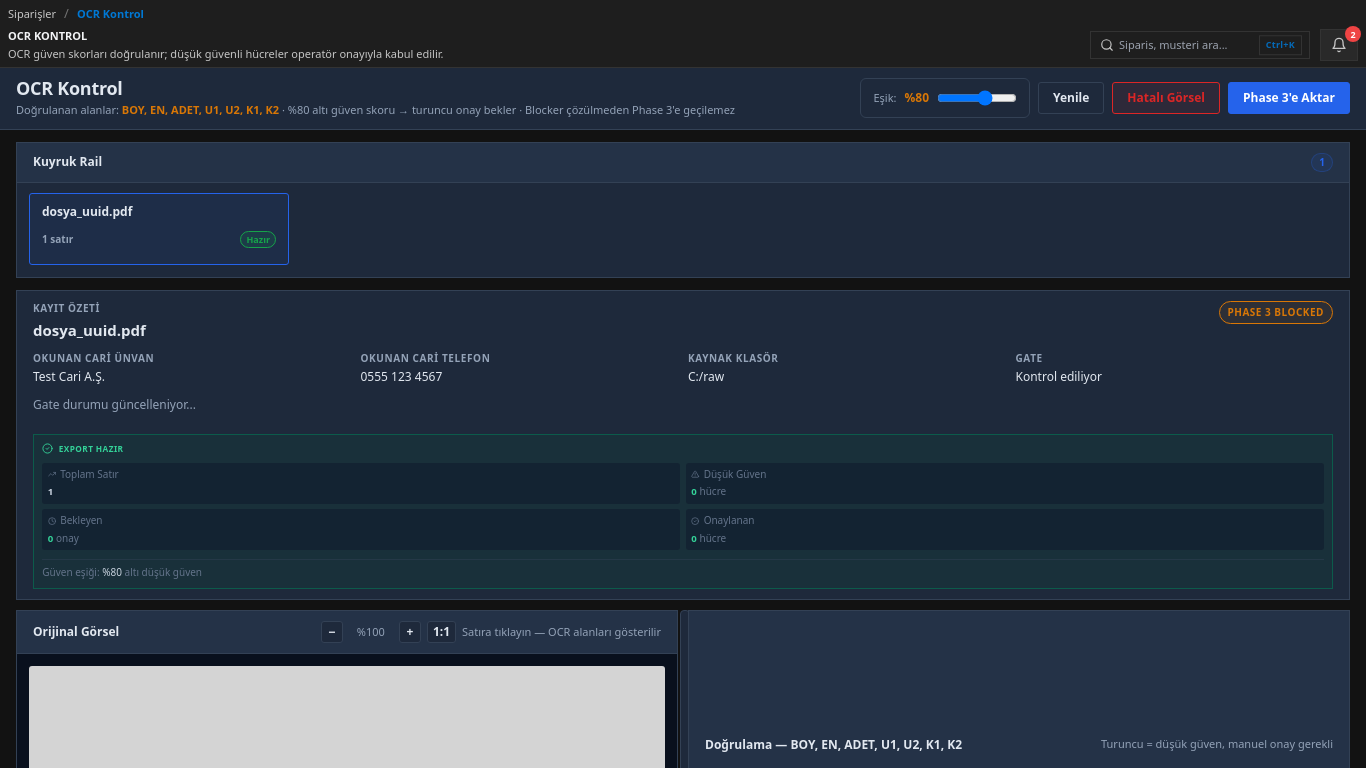
Test: OCRKontrolPage › modal iptal butonu modalı kapatır
Step 1. Click the button "Hatalı Görsel" → [1166, 98], box [1112, 82, 1220, 114]
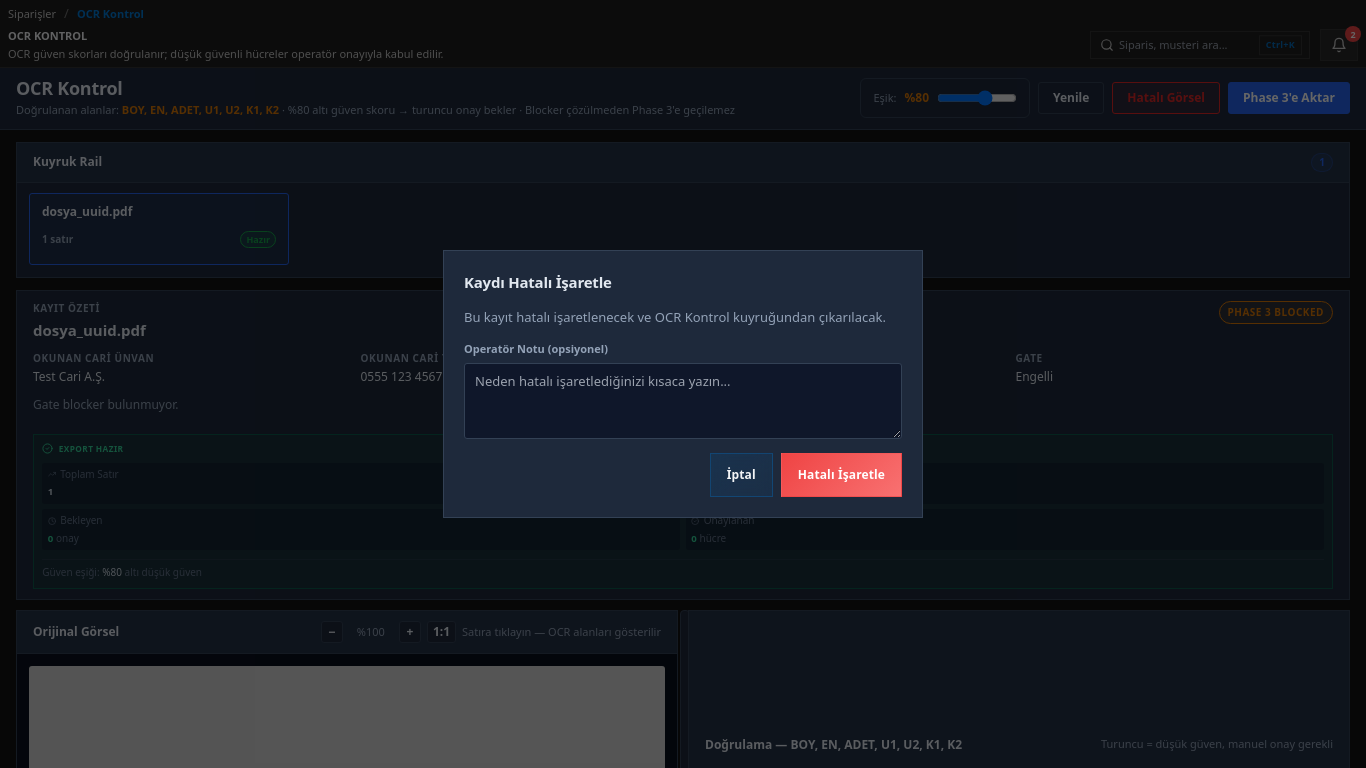
Expected: the dialog is shown
Note: "İptal" butonu — Turkish İ nedeniyle exact string kullan
Step 2. Click the button "İptal" → [741, 475], box [710, 453, 773, 497]
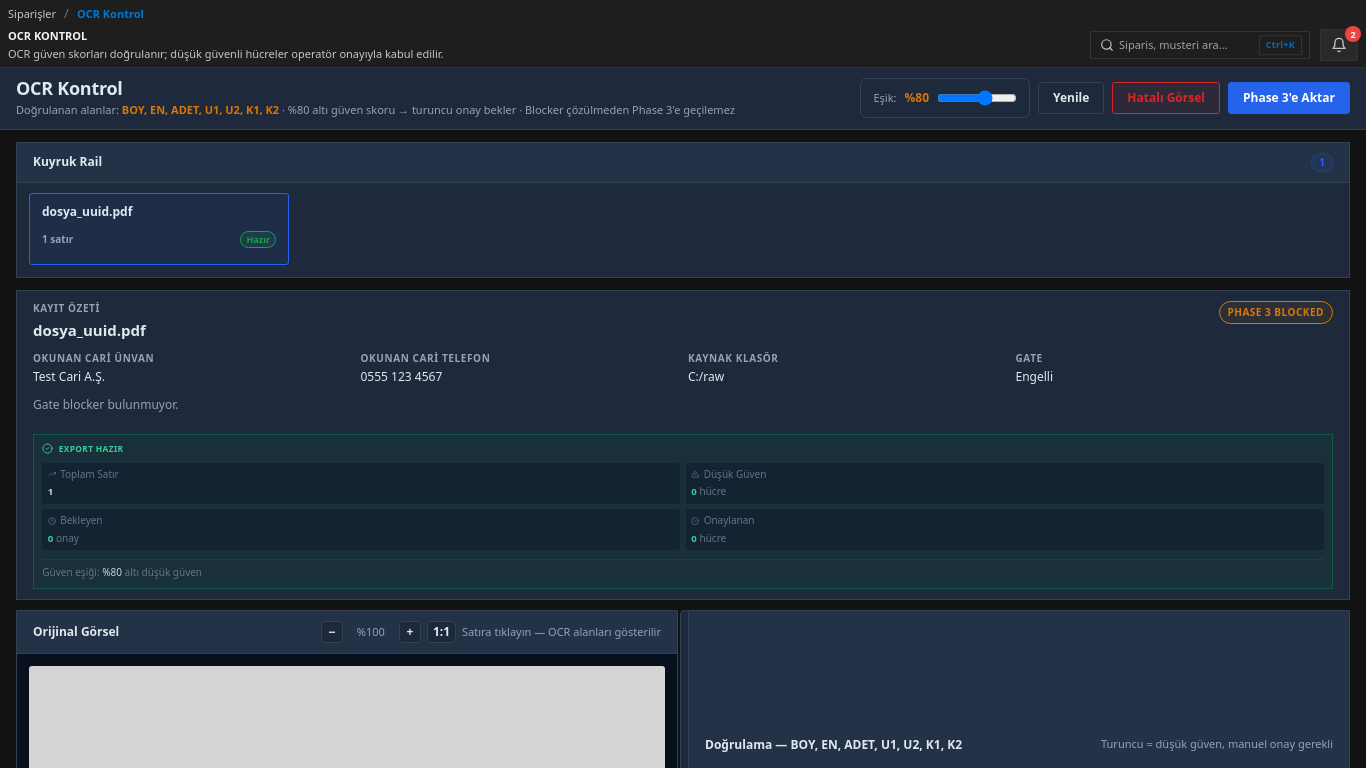
Expected: the dialog is gone
